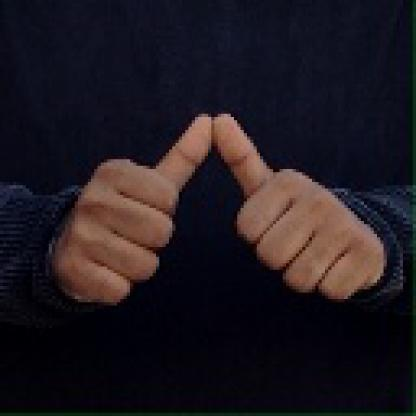A: (53, 112, 390, 310)
